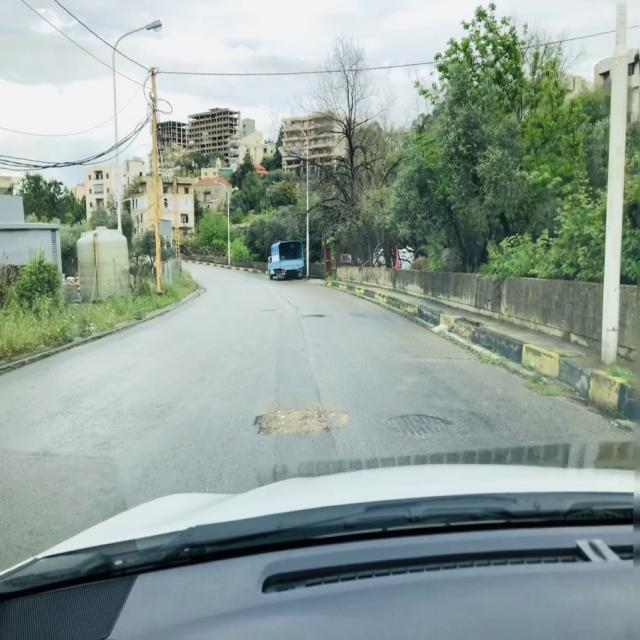Pothole: (254, 403, 355, 451)
